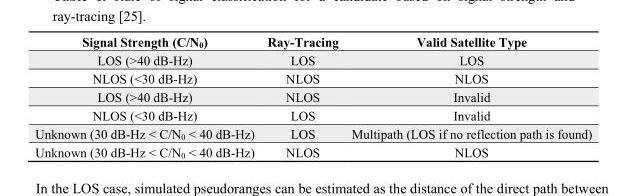table: (34, 34, 591, 159)
table column: (344, 34, 591, 159), (34, 34, 260, 159), (260, 34, 344, 159)
table column header: (34, 34, 591, 50)
table row: (34, 50, 591, 69), (34, 105, 591, 124), (34, 69, 591, 87), (34, 87, 591, 105), (34, 124, 591, 142), (34, 142, 591, 159), (34, 34, 591, 50)
